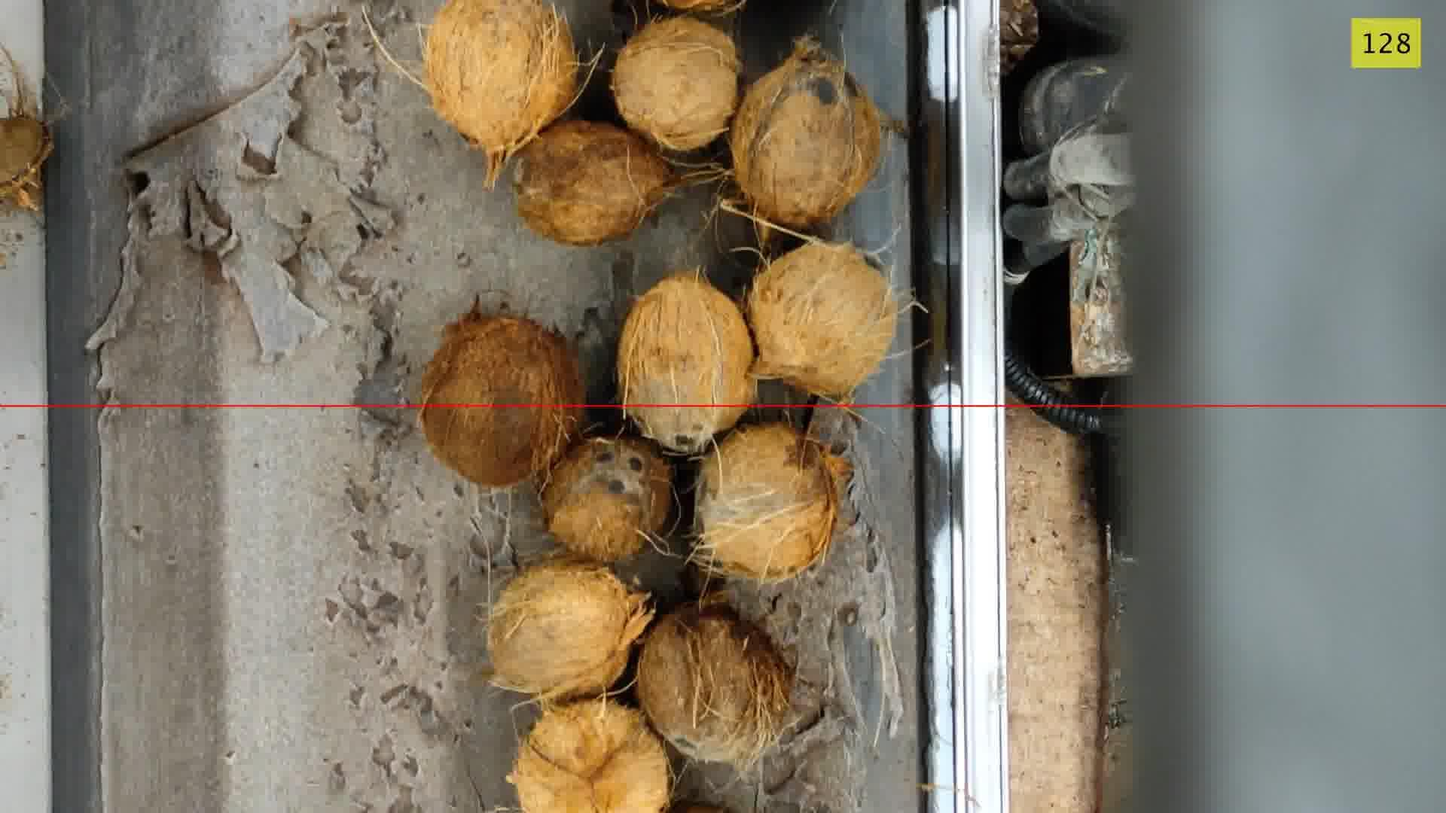Coconut: (419, 303, 584, 487), (729, 38, 882, 229), (424, 0, 578, 187), (636, 598, 793, 768), (618, 271, 755, 454), (695, 422, 849, 582), (746, 242, 898, 399), (487, 557, 652, 700), (514, 120, 675, 245), (508, 699, 670, 812), (611, 15, 741, 152), (541, 437, 672, 562), (0, 47, 53, 210), (659, 0, 745, 14), (669, 802, 729, 812)
